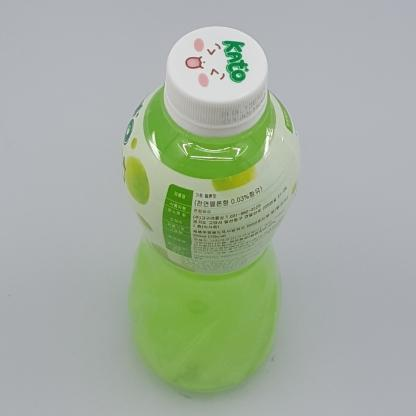-----------: (122, 26, 301, 393)
